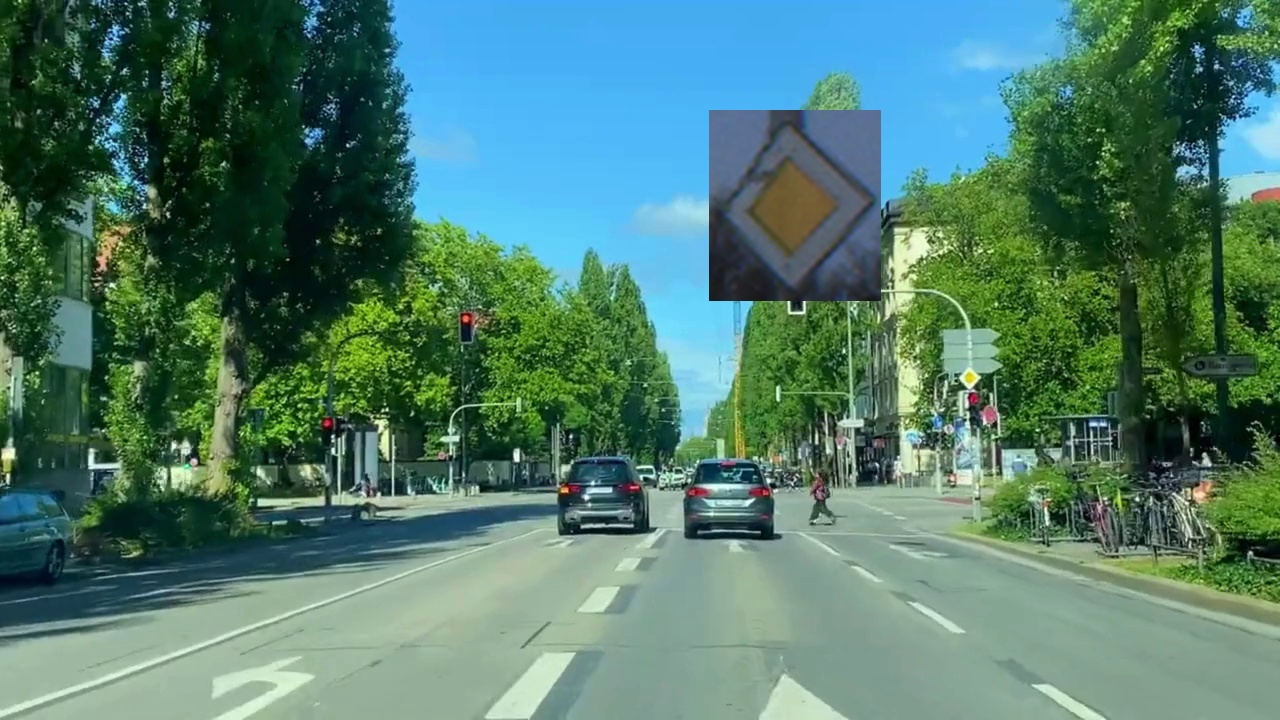Priority road: (709, 110, 881, 301)
